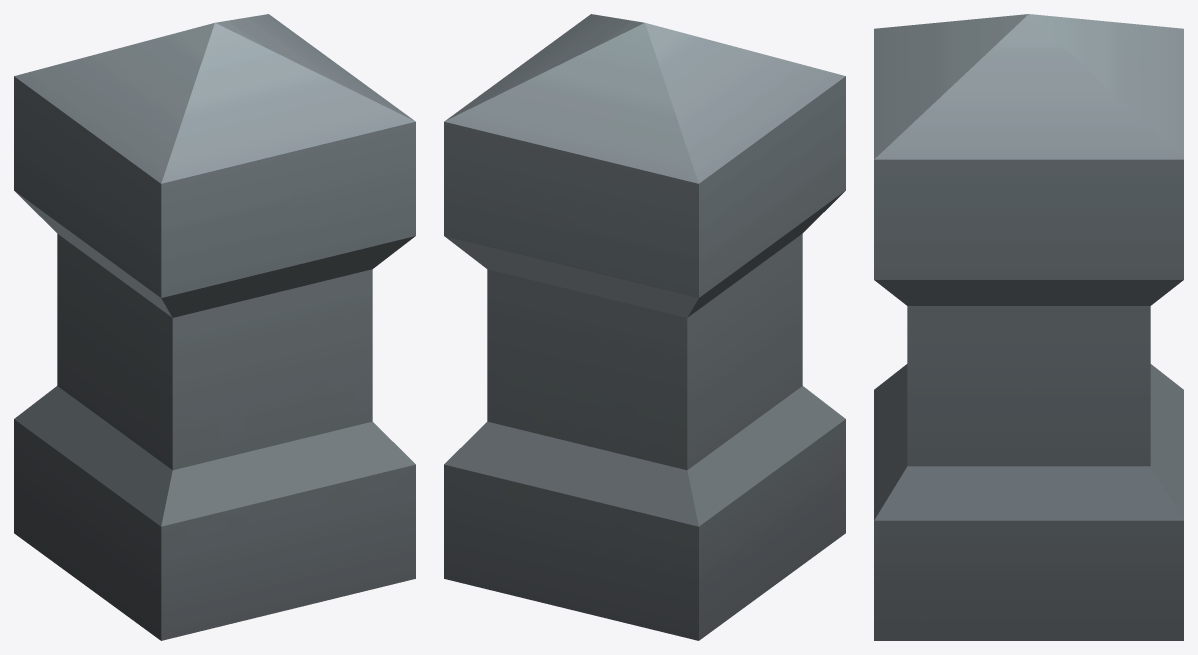
Rendered from column.glb.
The picture shows the model from 3 angles, left to right: view 1: azimuth 30°, elevation 25°; view 2: azimuth 150°, elevation 25°; view 3: azimuth 270°, elevation 25°; orthographic projection. The views are drawn at different scales.
Parts seen in each view (by area): view 1: column; view 2: column; view 3: column.
Part boxes in pixels (x1=…): column: x1=14, y1=14, x2=415, y2=640; column: x1=444, y1=14, x2=845, y2=640; column: x1=874, y1=14, x2=1183, y2=640.
Size of the model in its own units: 0.7001 by 1.4 by 0.7001.
Materials: 1 (1 with a texture image).
